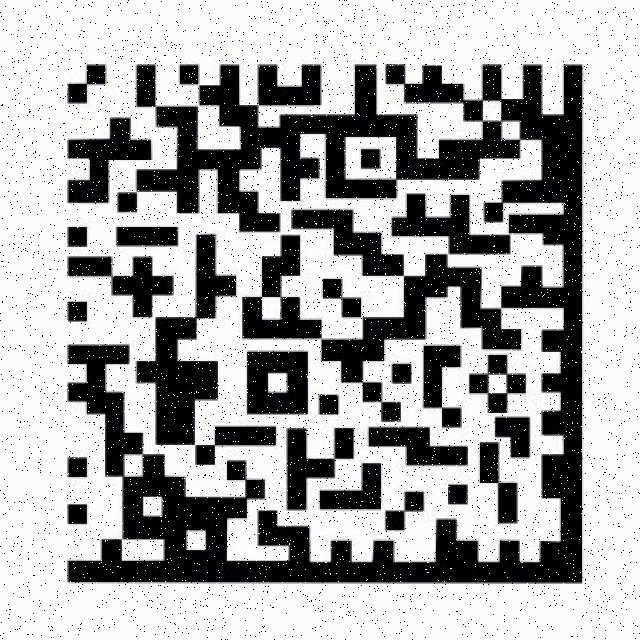datamatrix: (49, 52, 599, 600)
